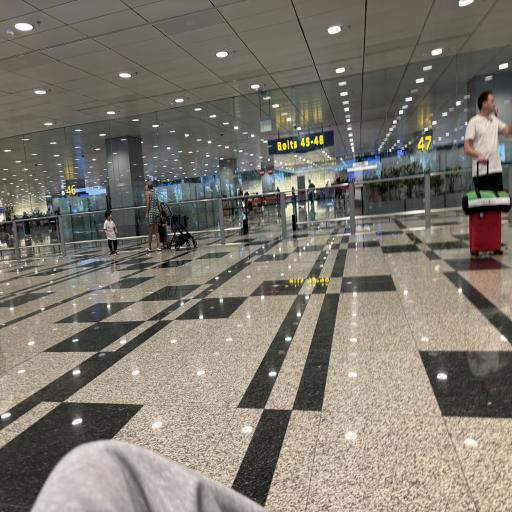person_with_luggage_right: (453, 76, 512, 264)
